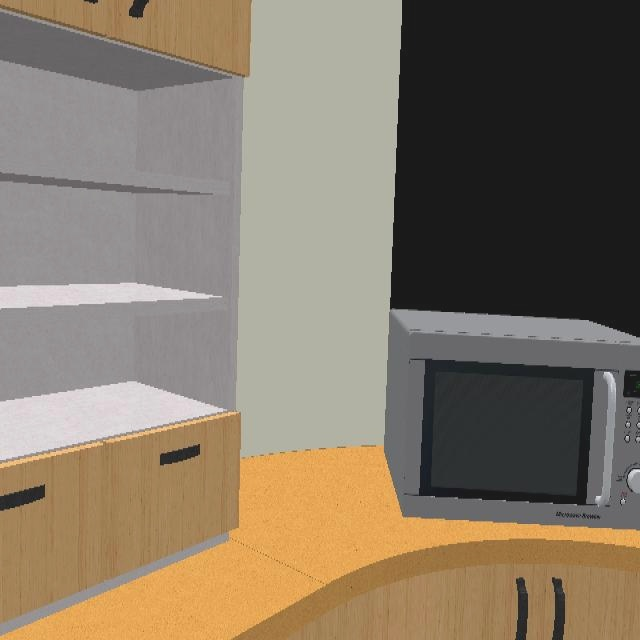countertop: (0, 447, 640, 640)
microwave: (385, 312, 640, 528)
shelf: (0, 8, 245, 409)
